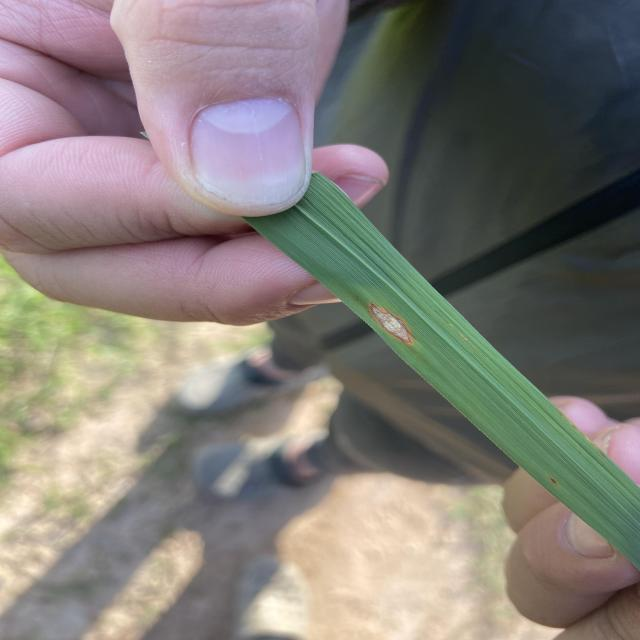Dao on: (369, 303, 412, 344)
